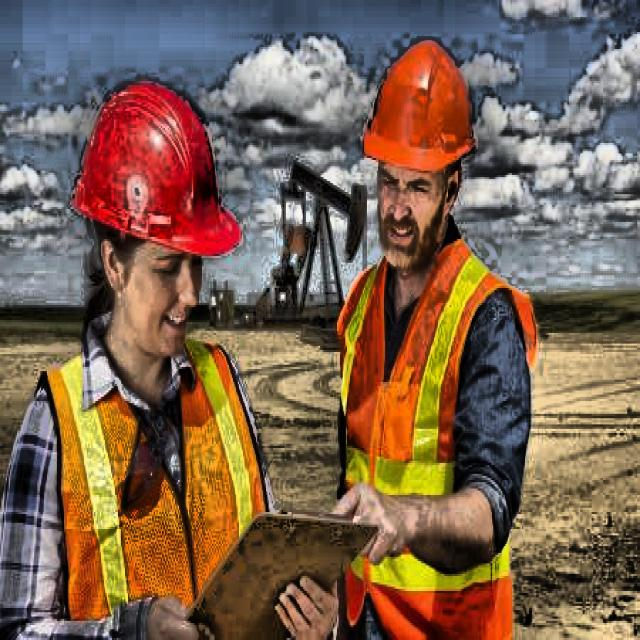helmet: (61, 62, 239, 373), (347, 26, 491, 280)
